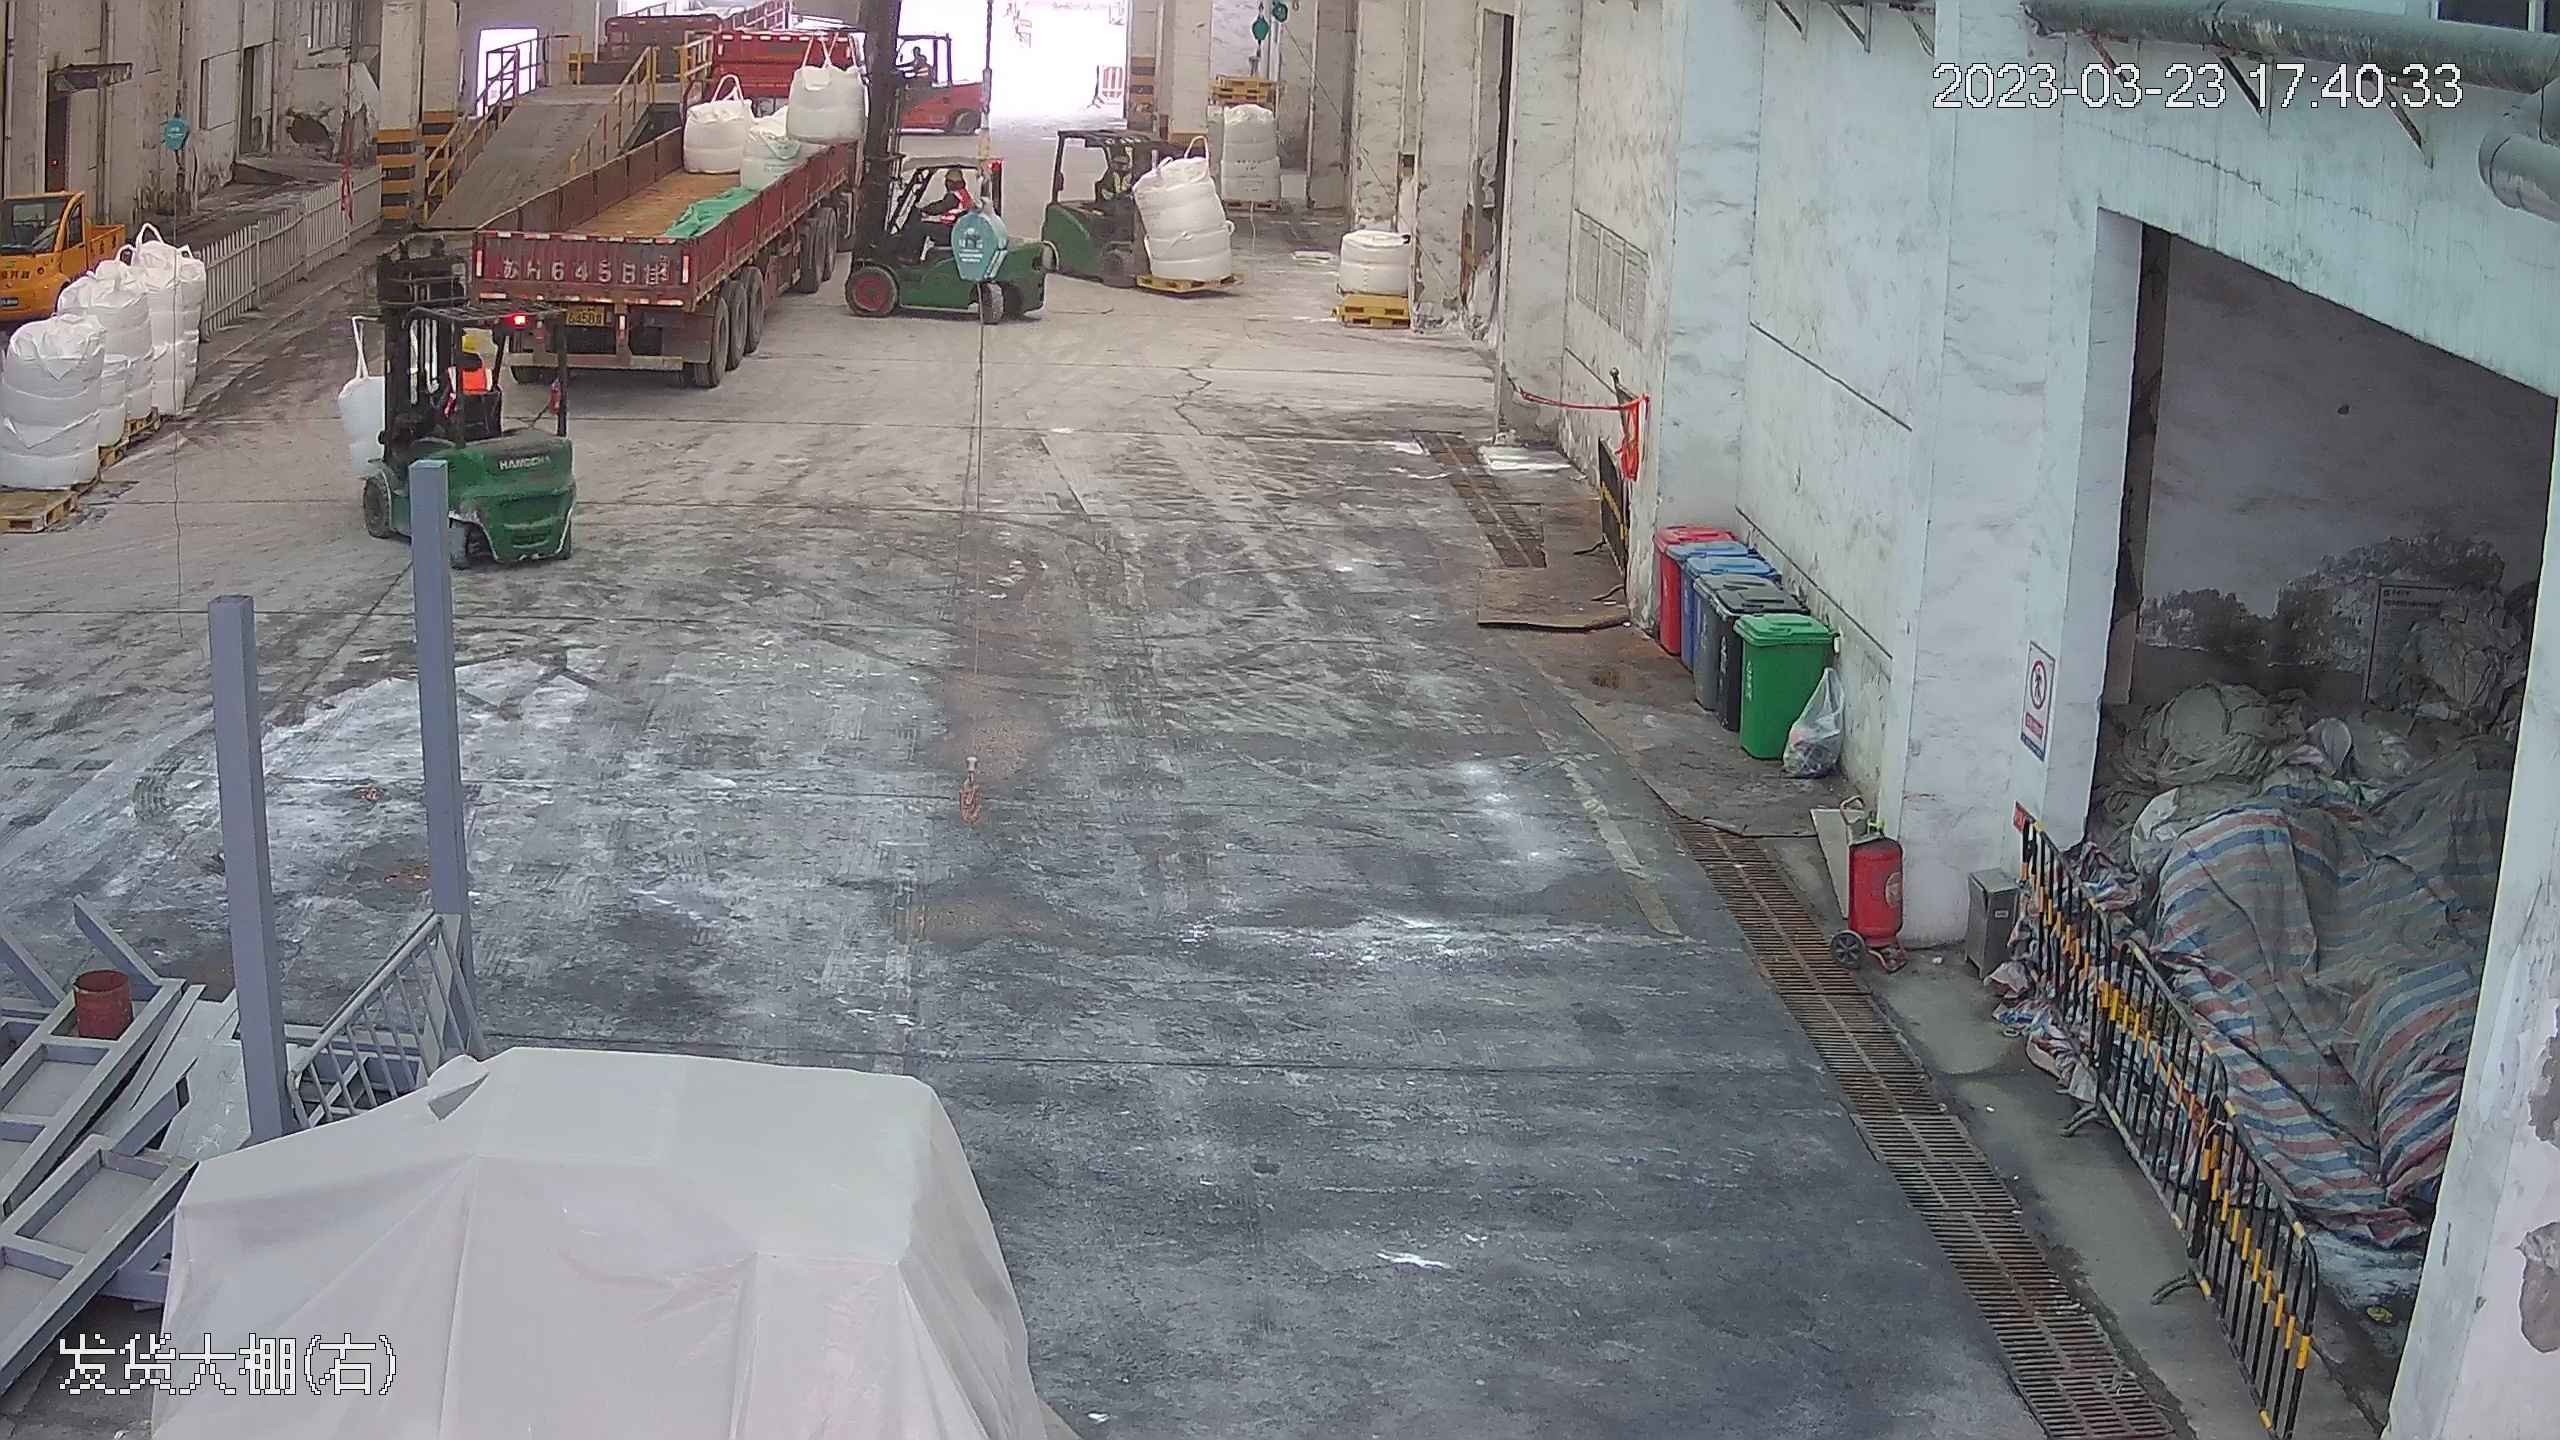head: (439, 331, 495, 394), (928, 165, 967, 206)
helmet: (452, 329, 483, 354), (939, 163, 961, 184)
people: (897, 163, 965, 259)
truck: (472, 1, 902, 378)
